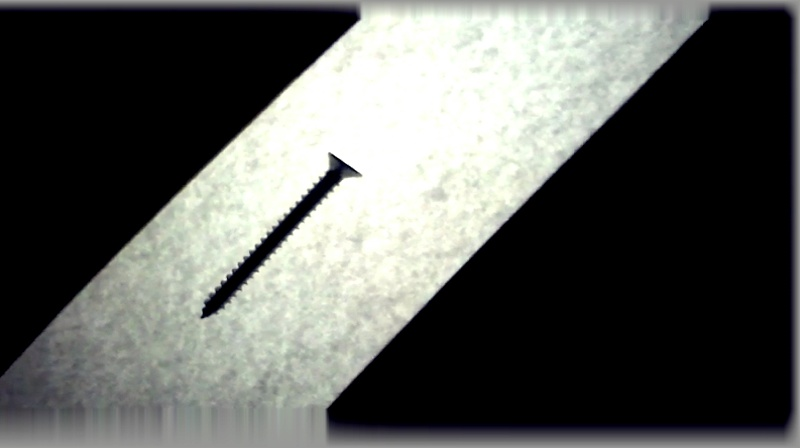S002: (194, 149, 367, 323)
